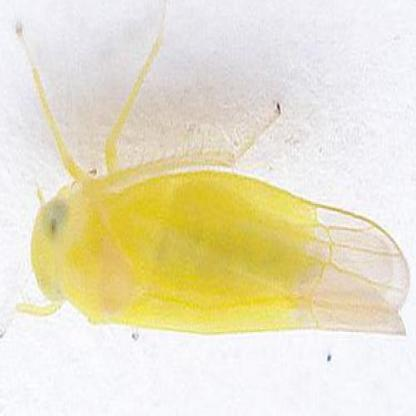green-leafhopper: (26, 151, 408, 346)
